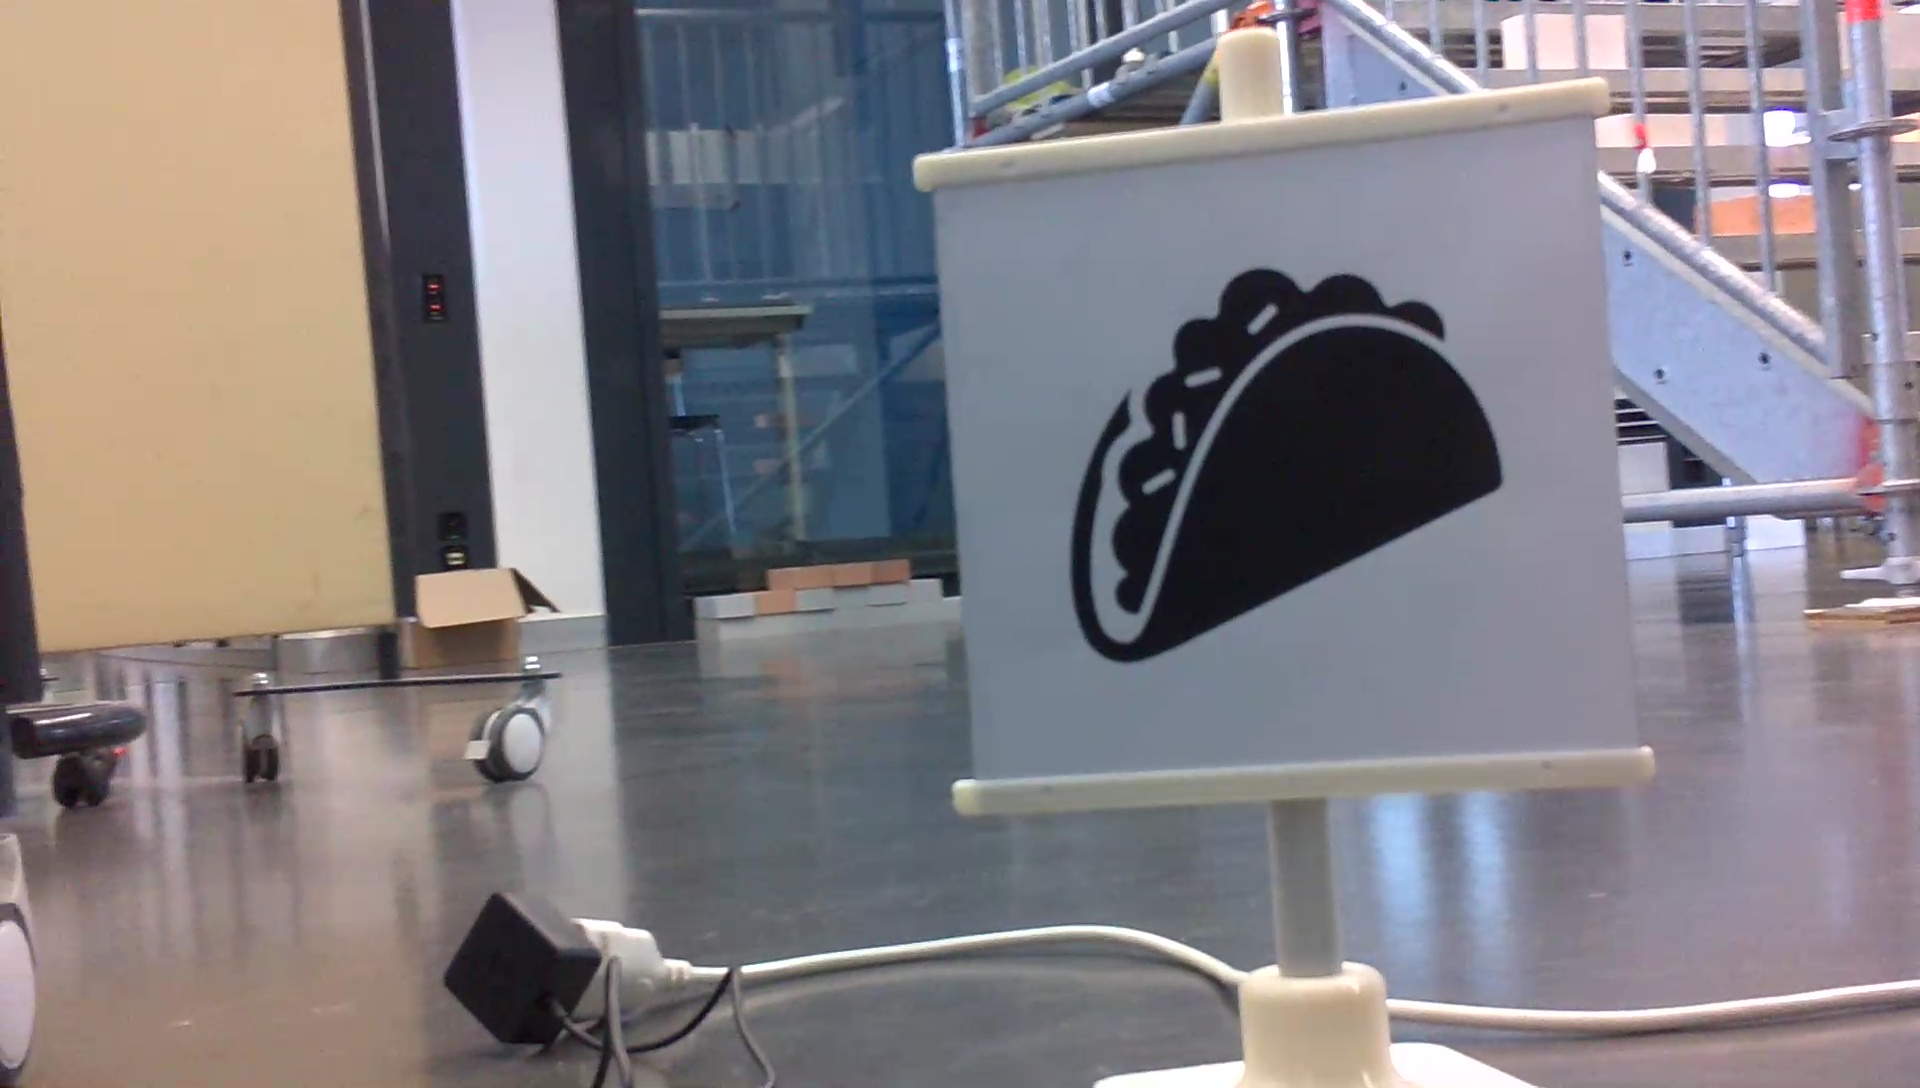taco: (1060, 251, 1516, 677)
